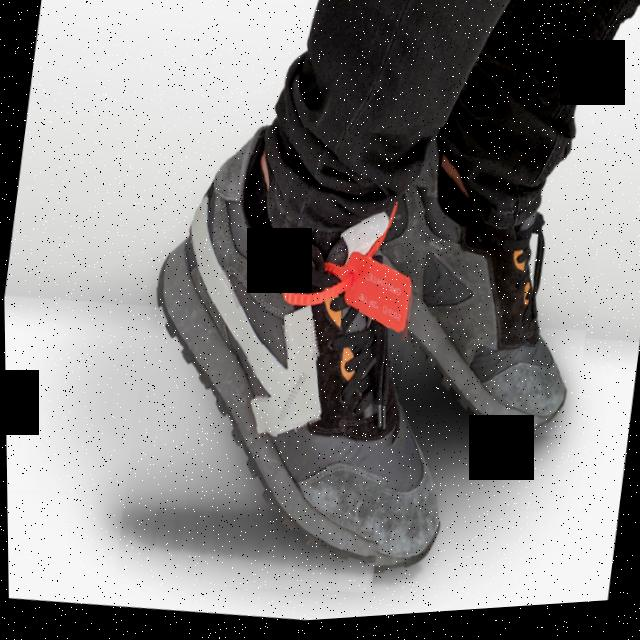shoe: (107, 106, 440, 622), (381, 124, 613, 463)
